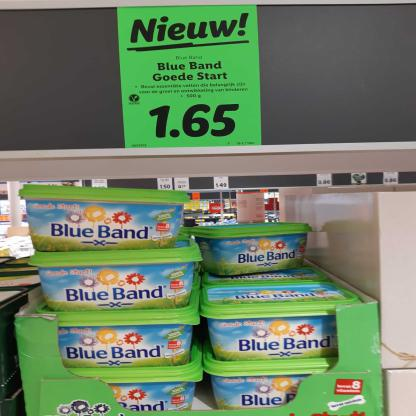prtg: (119, 6, 263, 149)
